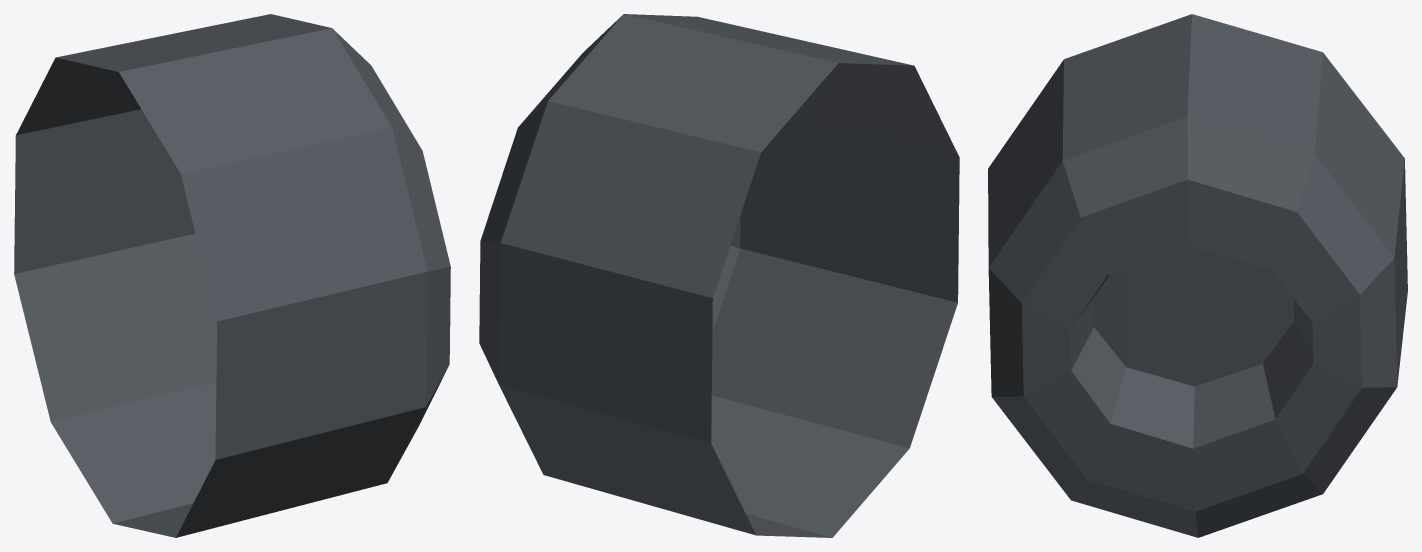
The model's file is Personal_Vehicle_01_Detail_1_Blue.fbx.
3 views of the same model, side by side, from view 1: azimuth 30°, elevation 25°; view 2: azimuth 150°, elevation 25°; view 3: azimuth 270°, elevation 25° (orthographic). The views are drawn at different scales.
Visible parts, largest first — view 1: Personal_Vehicle_01_Detail_1_Blue; view 2: Personal_Vehicle_01_Detail_1_Blue; view 3: Personal_Vehicle_01_Detail_1_Blue.
Part boxes in pixels (x1=…): Personal_Vehicle_01_Detail_1_Blue: x1=14, y1=14, x2=450, y2=537; Personal_Vehicle_01_Detail_1_Blue: x1=479, y1=14, x2=959, y2=537; Personal_Vehicle_01_Detail_1_Blue: x1=988, y1=14, x2=1407, y2=537.
Size of the model in its own units: 6.89 by 11.17 by 9.85.
1 material, 1 textured.
